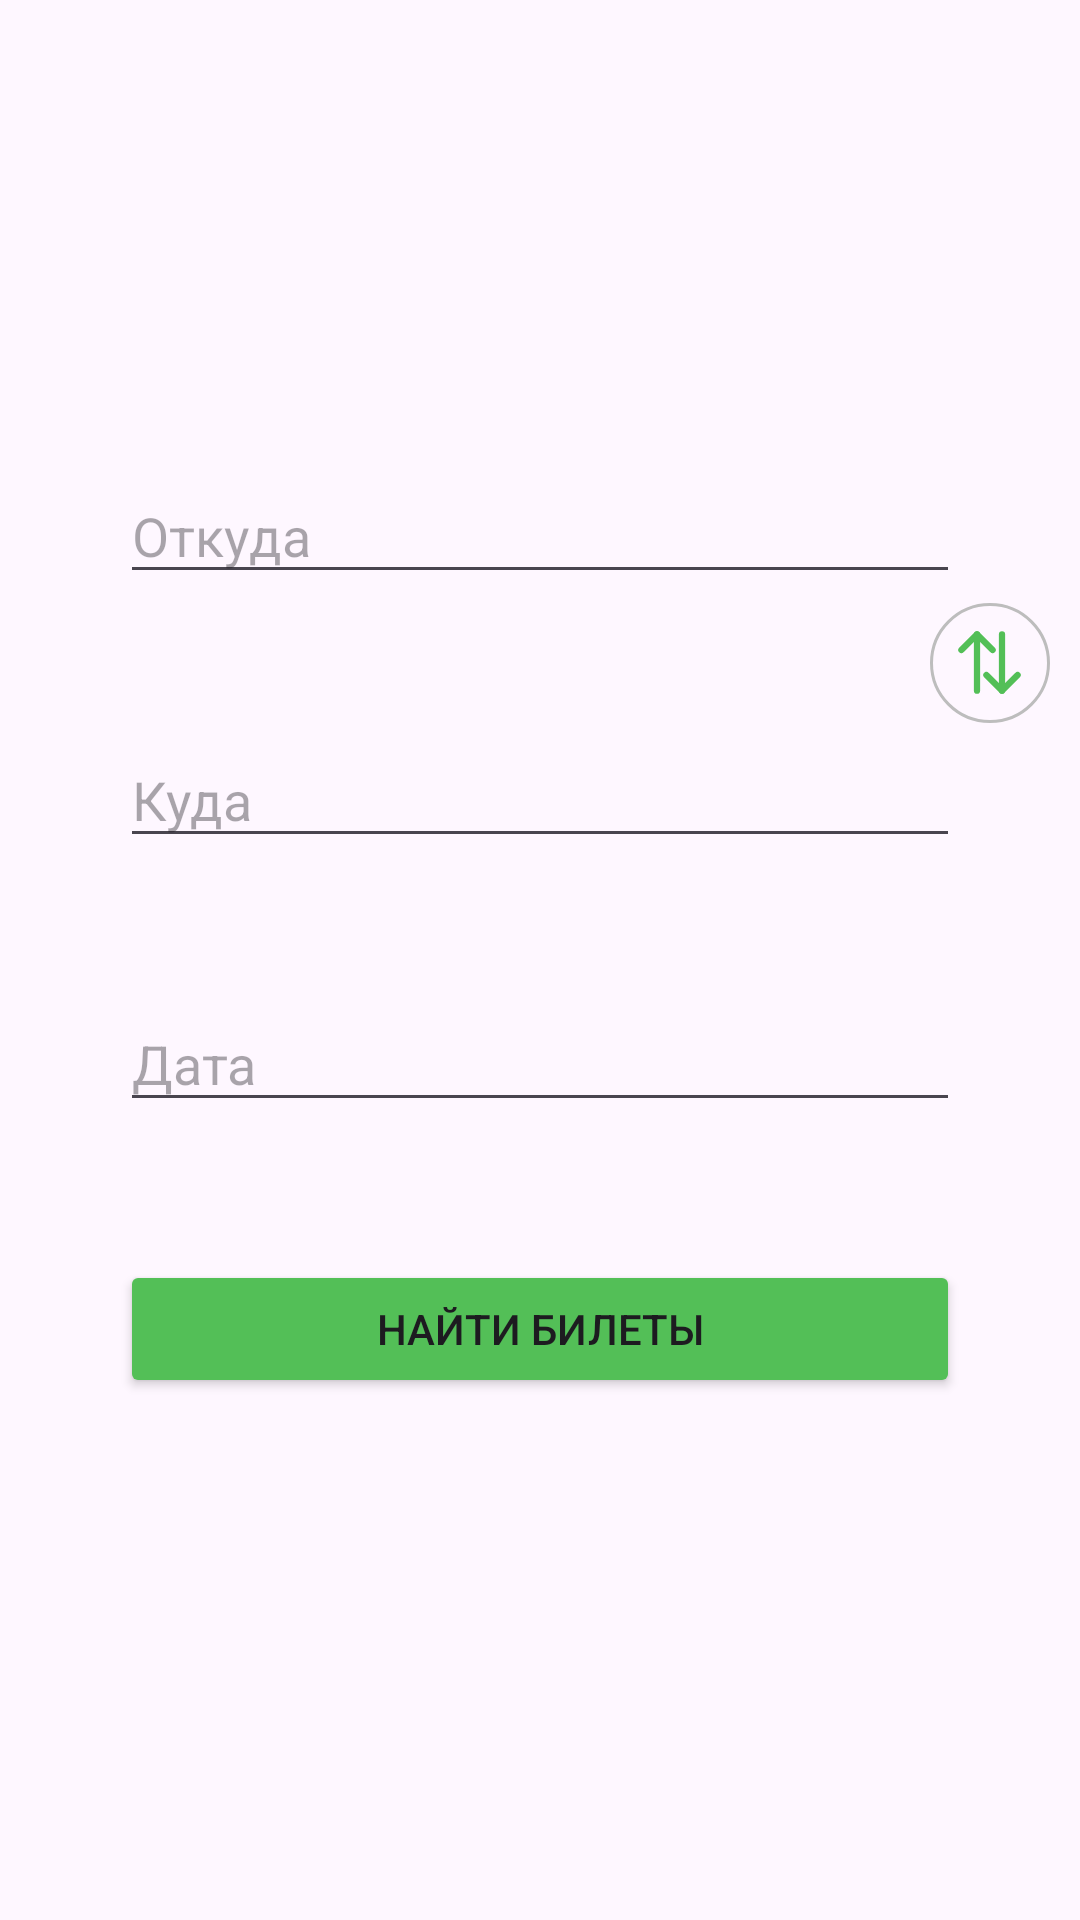

Where icons sit on this 1080px x 1920px app screen, as (x1, y1, x2, y2):
arrows switch: (958, 631, 1021, 694)
